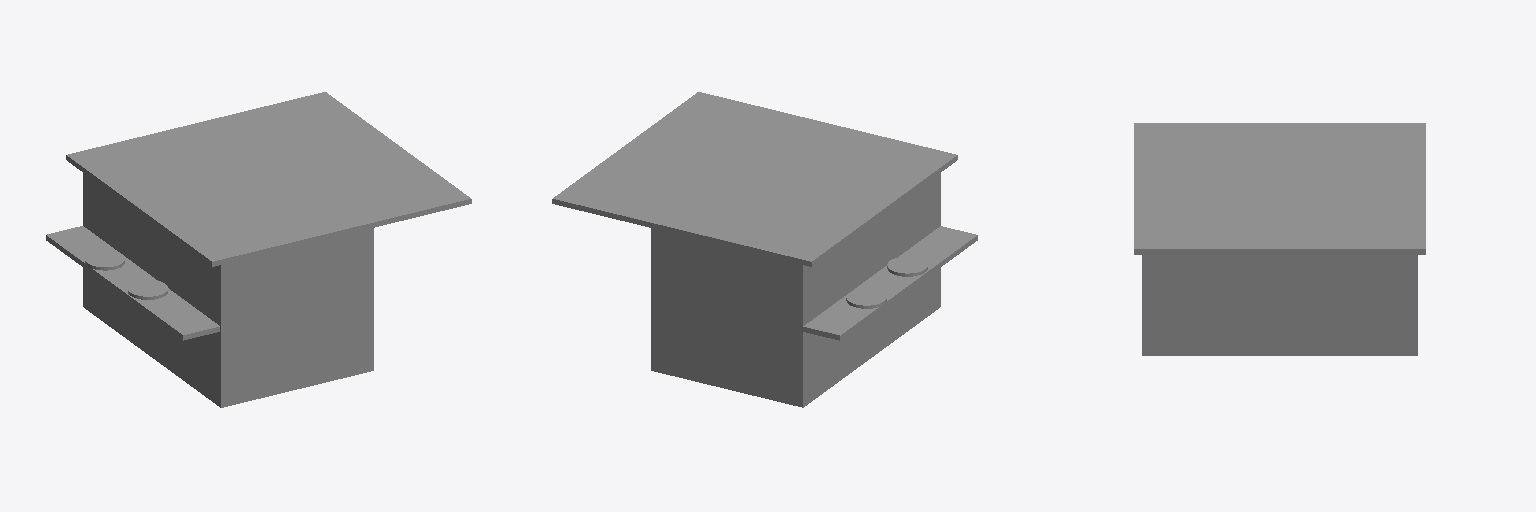
The model's file is counterBase.obj.
The picture shows the model from 3 angles: view 1: azimuth 30°, elevation 25°; view 2: azimuth 150°, elevation 25°; view 3: azimuth 270°, elevation 25°; orthographic projection.
Parts seen in each view (by area): view 1: Object001, counterBase, Object002; view 2: Object001, counterBase, Object002; view 3: Object001, counterBase.
Boxes of the visible parts, box(x1,y1,x2,y2) form: Object001: box(66, 92, 471, 266); counterBase: box(83, 173, 373, 407); Object002: box(46, 226, 219, 340); Object001: box(552, 92, 957, 266); counterBase: box(651, 173, 940, 407); Object002: box(803, 226, 977, 340); Object001: box(1134, 123, 1425, 254); counterBase: box(1142, 255, 1417, 355).
Size of the model in its own units: 3.96 by 2.02 by 3.52.